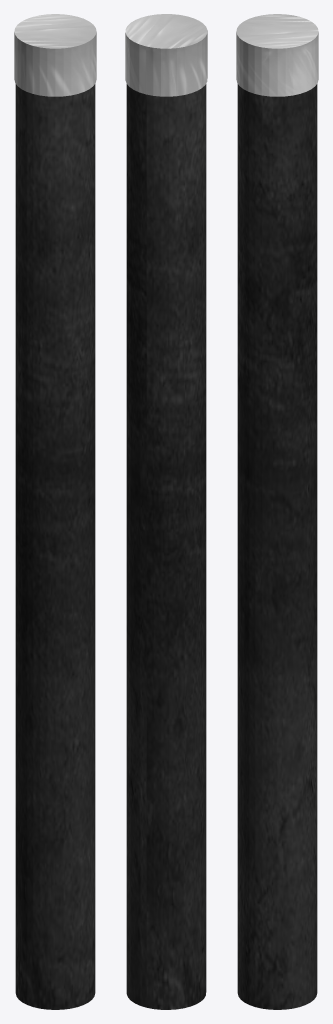
The model's file is 30mmCandleExample.fbx.
3 renders of one model, left to right at view 1: azimuth 90°, elevation 25°; view 2: azimuth 150°, elevation 25°; view 3: azimuth 270°, elevation 25°, orthographic.
Visible parts, largest first — view 1: 30mmCandle, Top Cap; view 2: 30mmCandle, Top Cap; view 3: 30mmCandle, Top Cap.
Part boxes in pixels (box(x1,y1,x2,y2)): 30mmCandle: box(15, 84, 95, 1009); Top Cap: box(14, 14, 96, 96); 30mmCandle: box(126, 84, 206, 1009); Top Cap: box(125, 14, 207, 96); 30mmCandle: box(237, 84, 317, 1009); Top Cap: box(236, 14, 318, 96).
Bounding box in the file's own units: 6.2 × 80.02 × 6.2.
